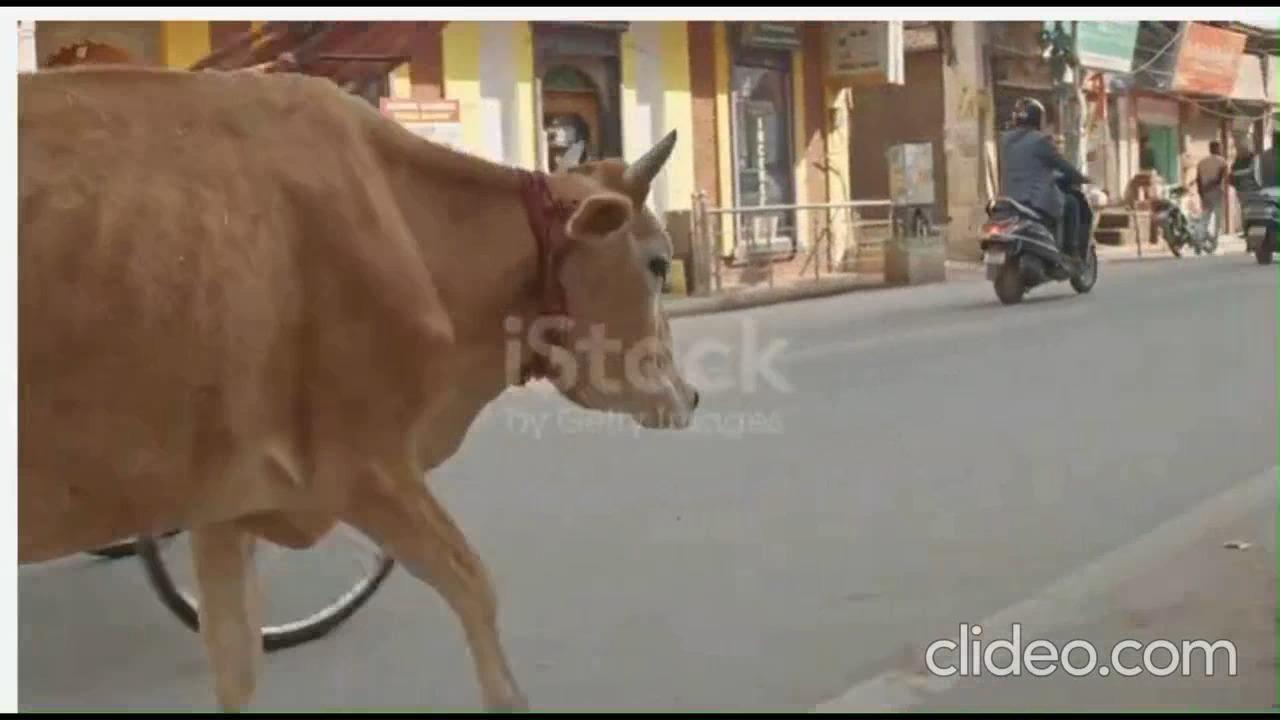Cow: (0, 68, 703, 707)
